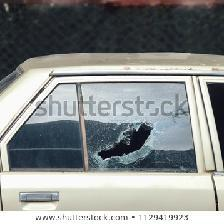glass_shatter: (41, 80, 203, 183)
